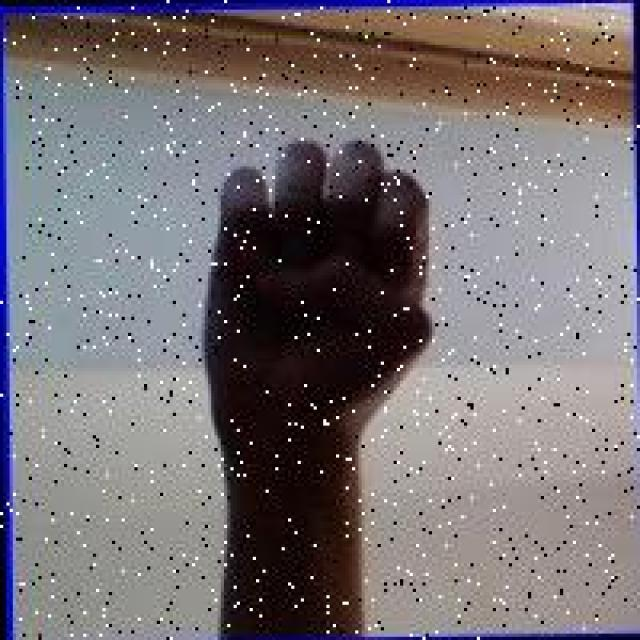E: (195, 130, 445, 446)
